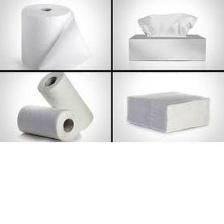book: (124, 31, 210, 65)
tissue: (15, 2, 99, 70), (121, 83, 216, 137), (33, 70, 98, 135), (13, 100, 83, 142), (133, 7, 202, 42)
